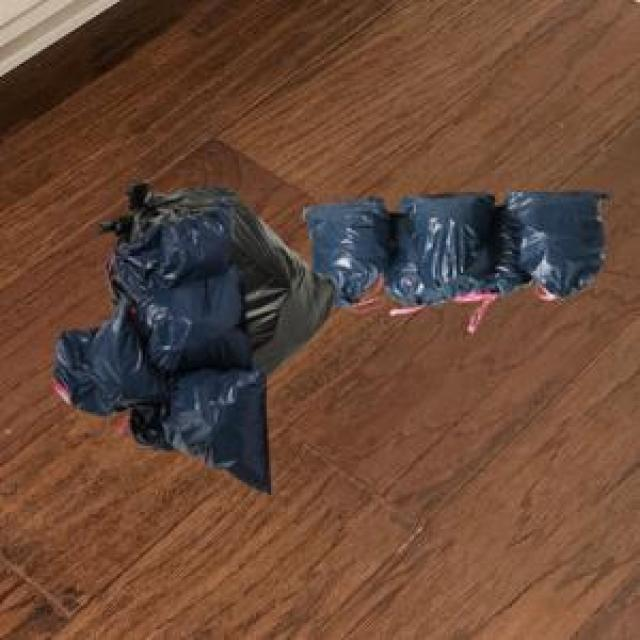miscellaneous trash: (49, 192, 266, 491), (94, 177, 333, 371), (299, 188, 608, 303)
